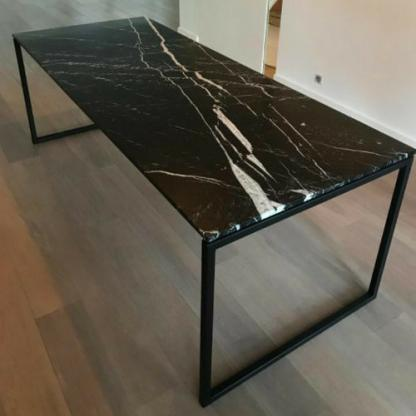Dining Table: (8, 12, 416, 408)
